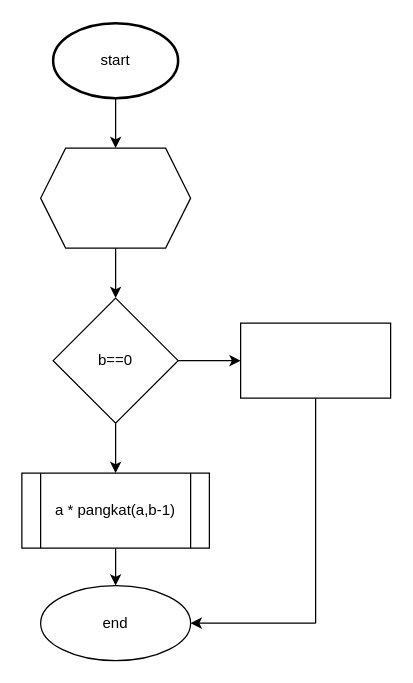
The diagram is 413 pixels wide and 683 high, and some of its shapes have lost their labels. Each missing label, with the box of its shape:
long int pangkat: (39, 147, 191, 248)
return 1: (239, 322, 391, 398)
